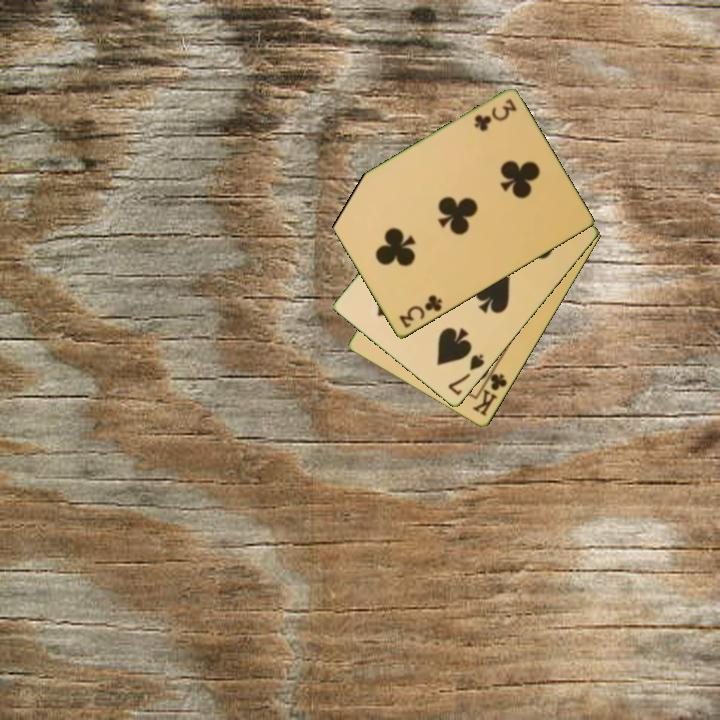3c: (395, 292, 445, 331), (470, 95, 520, 134)
7s: (444, 351, 487, 399)
Kc: (469, 364, 510, 419)
